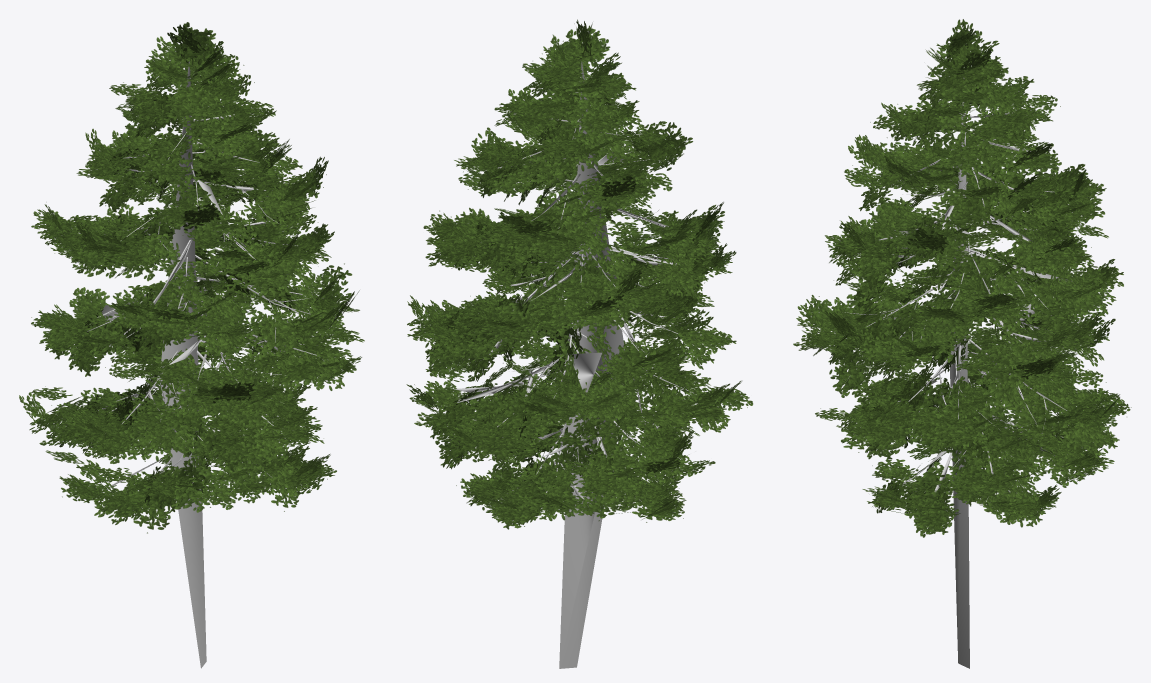
File: spruce_1.gltf
3 views of the same model, side by side, from view 1: azimuth 30°, elevation 25°; view 2: azimuth 150°, elevation 25°; view 3: azimuth 270°, elevation 25° (orthographic). The views are drawn at different scales.
Parts seen in each view (by area): view 1: LOD0; view 2: LOD0; view 3: LOD0.
Boxes of the visible parts, x1,y1,x2,y2 form: LOD0: (19, 22, 364, 668); LOD0: (406, 19, 752, 668); LOD0: (793, 19, 1131, 668).
Size of what is drawn, in the model's own units: 9.89 by 19.4 by 9.48.
